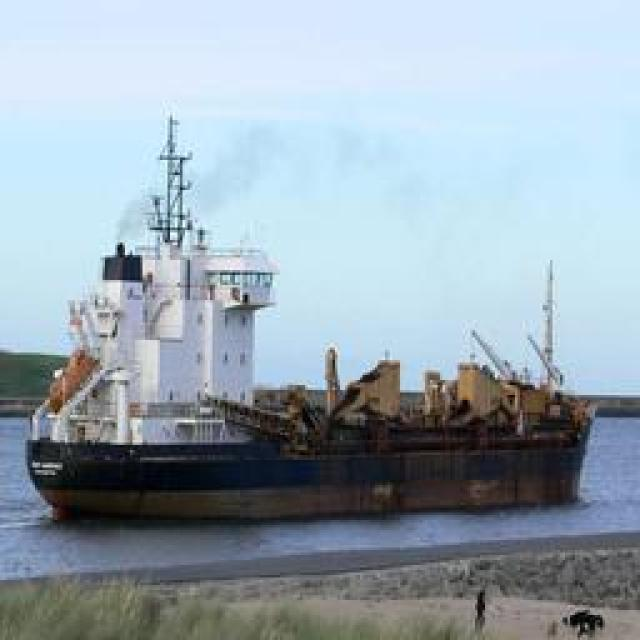CIV_Ship: (25, 142, 600, 526)
